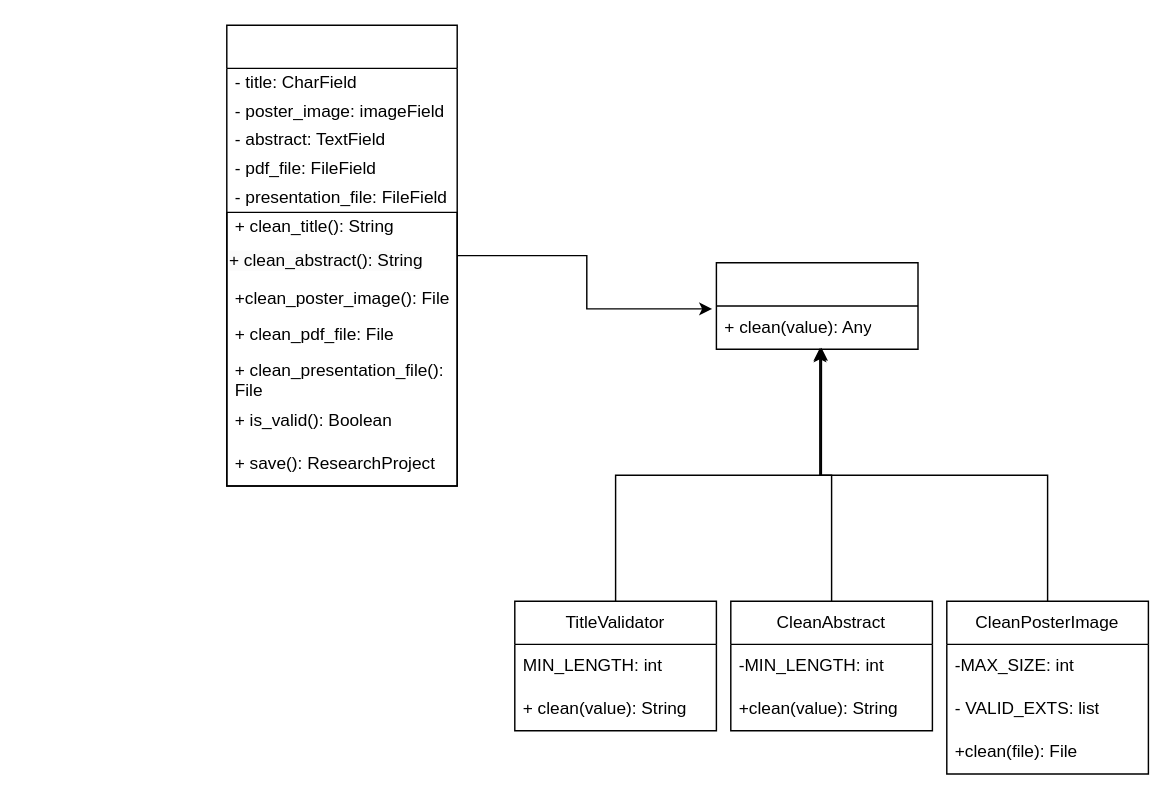
This 1174x799 diagram has some shape labels left out. The shapes that lost their labels are listed below. From the top down, each one's box as (x1, y1, x2, y2) in pixels, then its label:
(225, 24, 457, 486): ResearchProjectForm
(715, 261, 918, 349): FieldValidationStrategy
